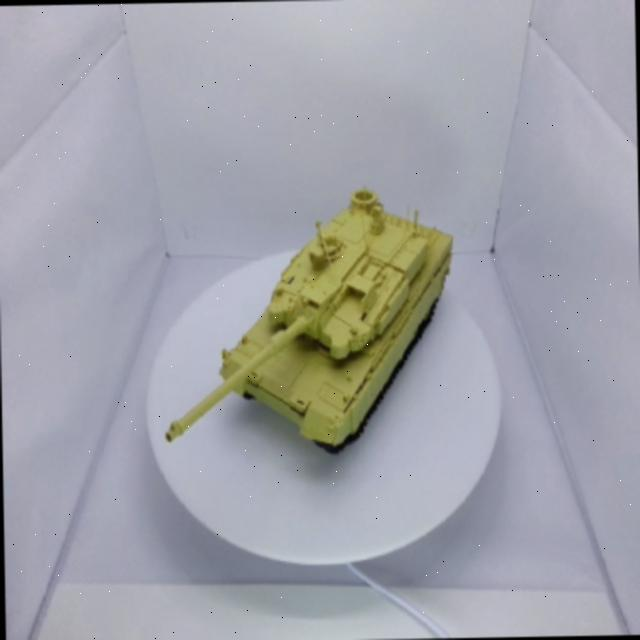korea tank: (157, 155, 474, 490)
